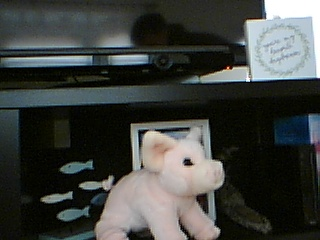piggy: (93, 125, 227, 240)
